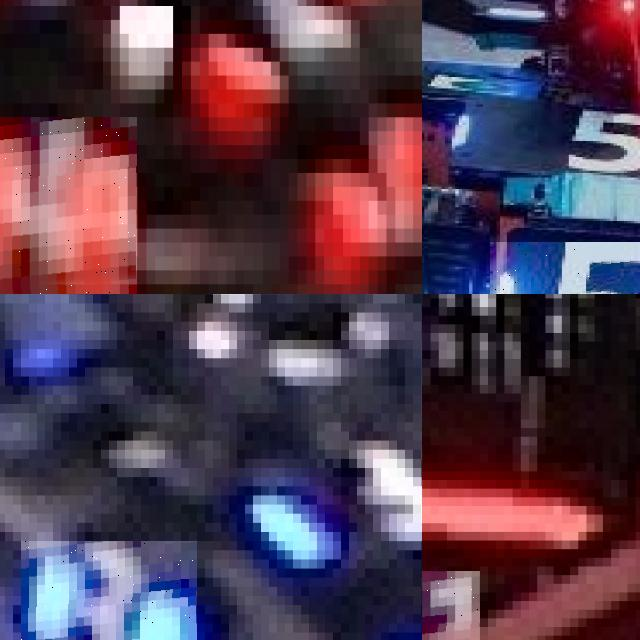B3: (21, 541, 197, 640)
B5: (489, 241, 640, 294)
R1: (422, 570, 480, 640)
R4: (0, 117, 137, 294)
